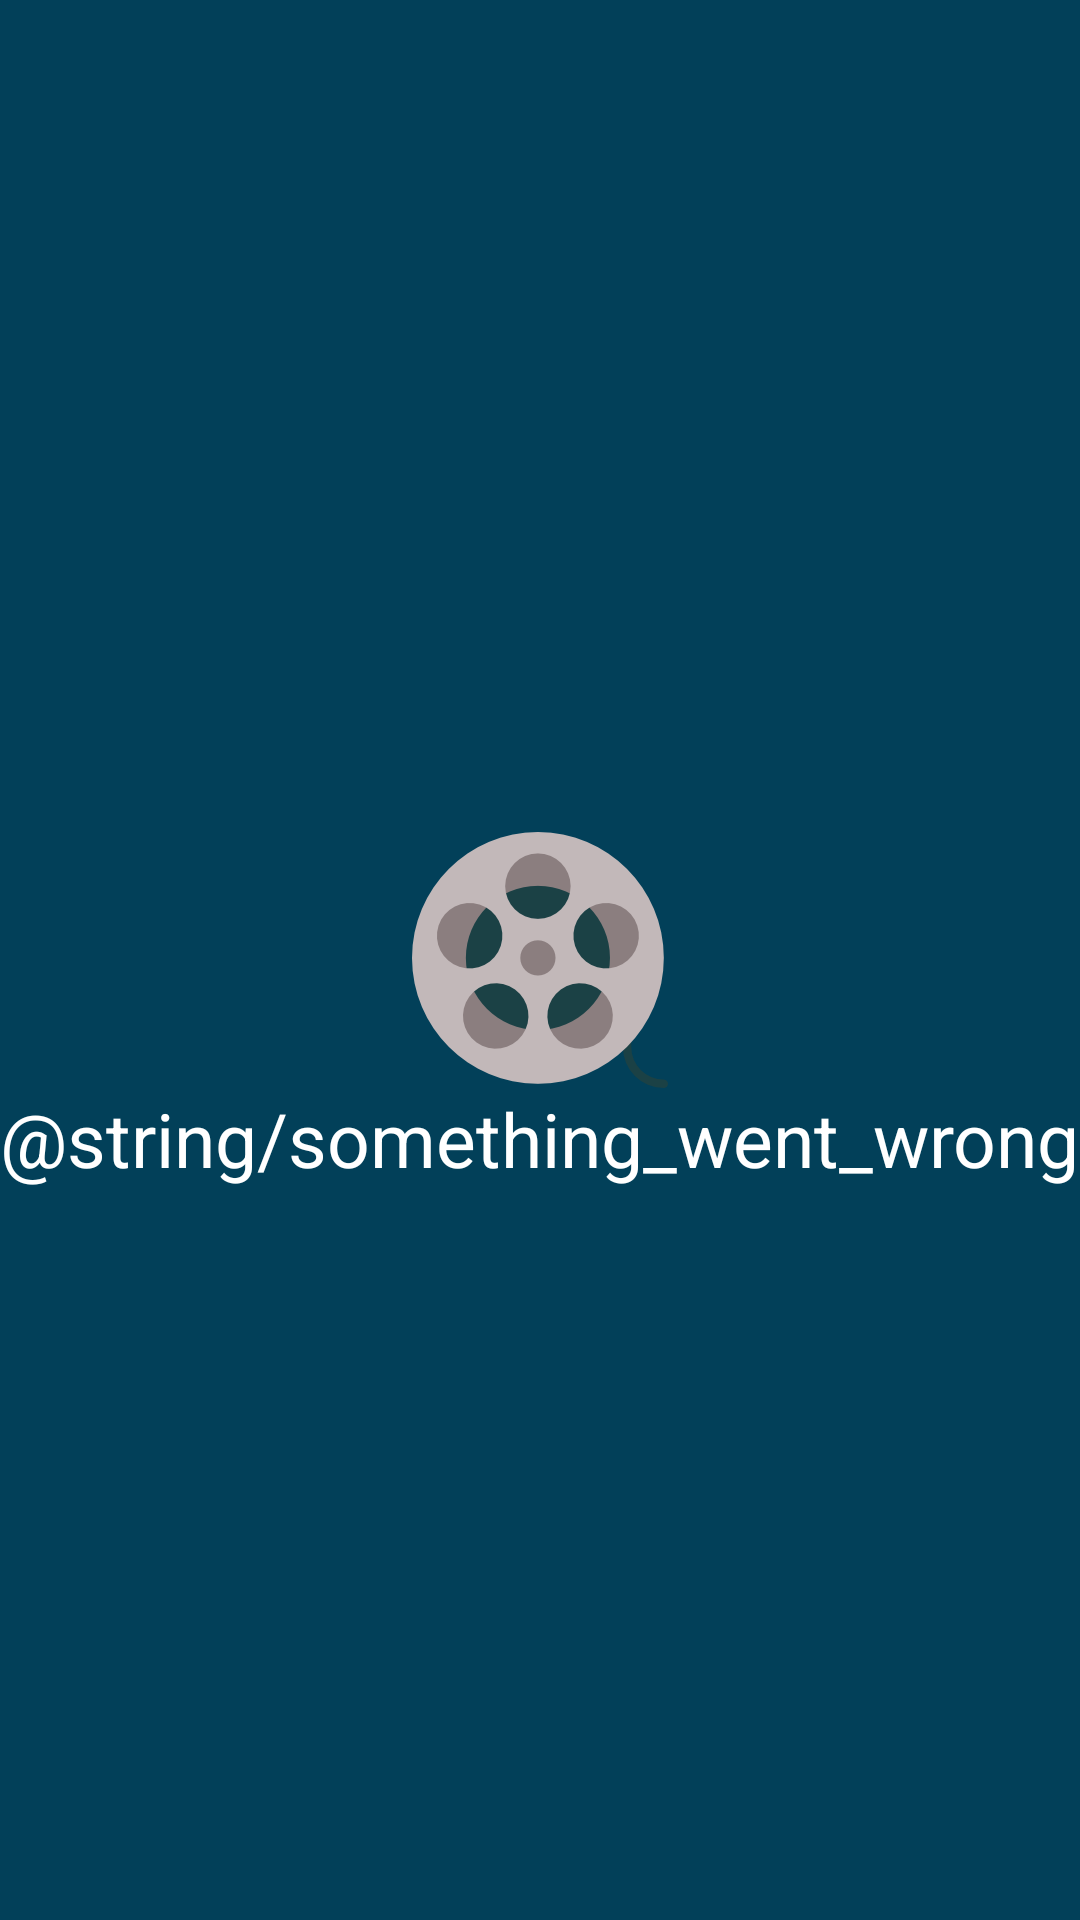

Icon click points for this 1080*1920 phone screenshot, format (x,y):
film: (539,959)
